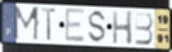B: (134, 11, 154, 46)
E: (64, 7, 86, 44)
H: (111, 10, 134, 46)
M: (13, 6, 41, 42)
S: (86, 9, 108, 45)
T: (40, 7, 58, 42)
